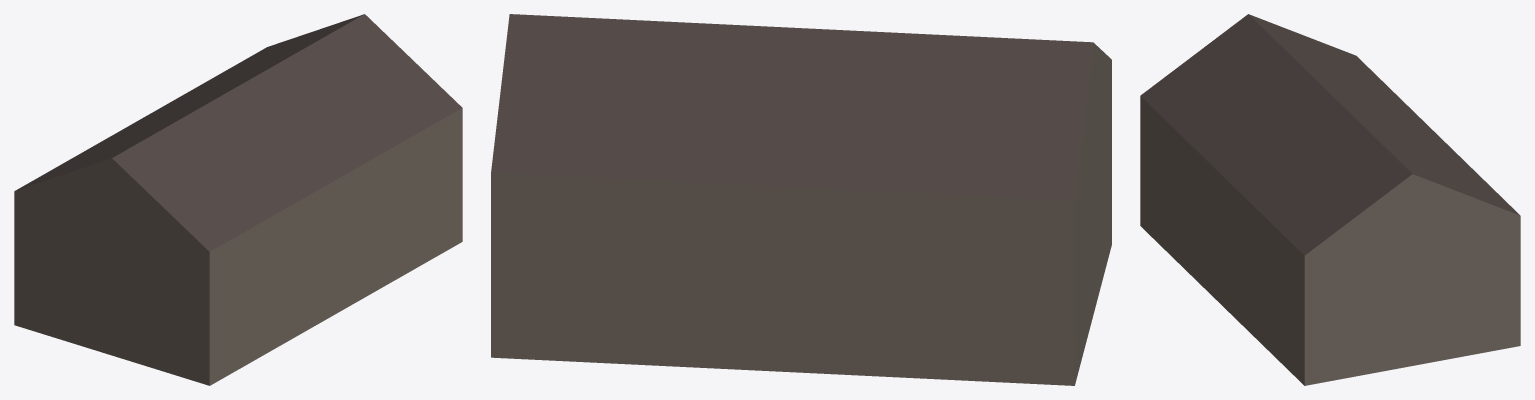
3 views of the same model, side by side, from view 1: azimuth 30°, elevation 25°; view 2: azimuth 150°, elevation 25°; view 3: azimuth 270°, elevation 25° (orthographic). The views are drawn at different scales.
Visible parts, largest first — view 1: HP-w781767762; view 2: HP-w781767762; view 3: HP-w781767762.
Boxes of the visible parts, box(x1,y1,x2,y2) form: HP-w781767762: box(14, 14, 462, 385); HP-w781767762: box(491, 14, 1111, 385); HP-w781767762: box(1140, 14, 1520, 385).
Size of the model in its own units: 19.77 by 8.84 by 15.89.
